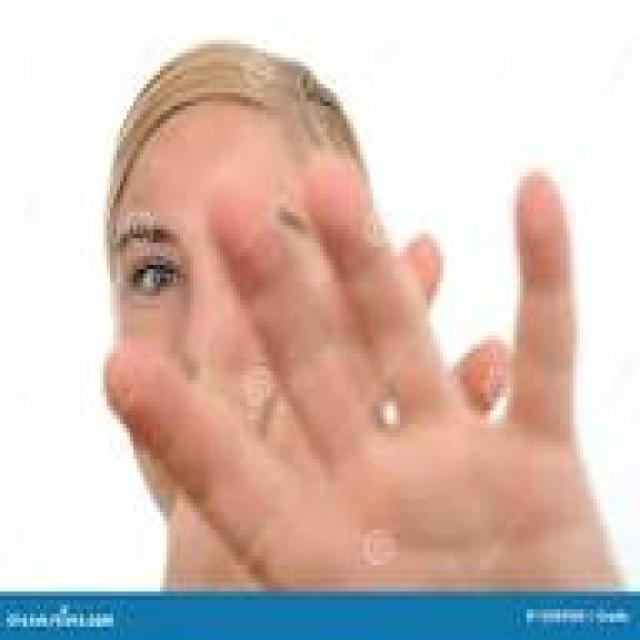7_mano_rostro: (96, 145, 584, 591)
